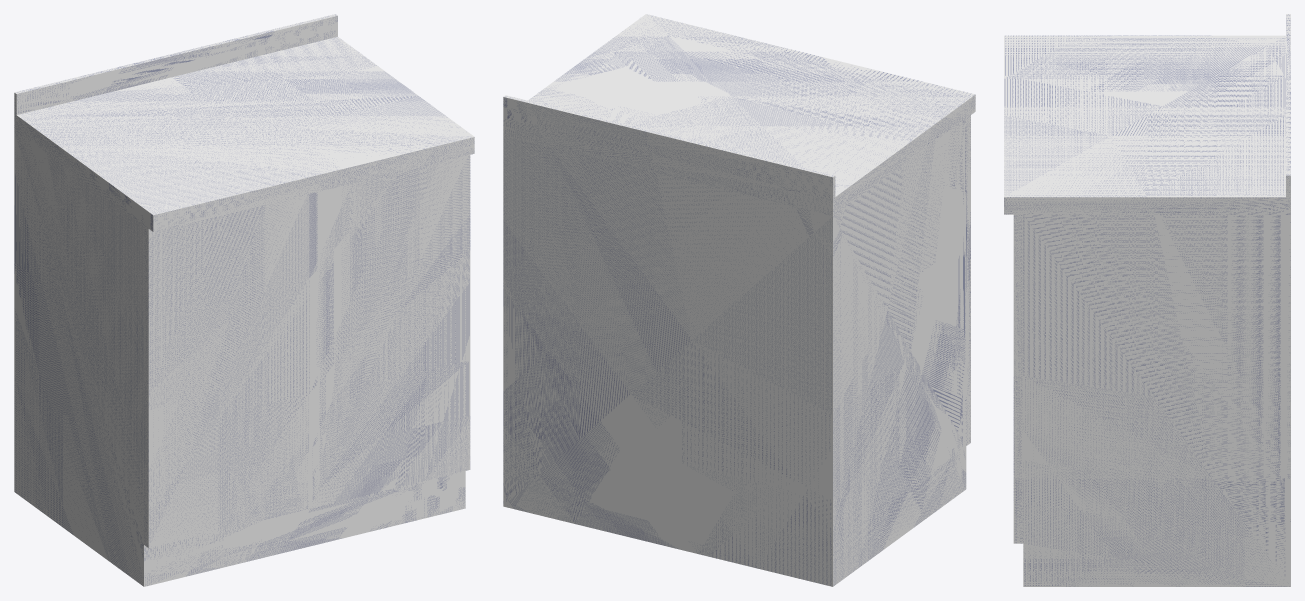
Rendered from counter.fbx.
3 renders of one model, left to right at view 1: azimuth 30°, elevation 25°; view 2: azimuth 150°, elevation 25°; view 3: azimuth 270°, elevation 25°, orthographic. The views are drawn at different scales.
Parts seen in each view (by area): view 1: Group1, counter_basic_80_90_60_door1, Group2; view 2: counter_basic_80_90_60_door1, Group2, Group1; view 3: counter_basic_80_90_60_door1, Group2, Group1.
Boxes of the visible parts, left/top/right/bottom form: Group1: left=144, top=155, right=470, bottom=548; counter_basic_80_90_60_door1: left=14, top=130, right=465, bottom=586; Group2: left=14, top=14, right=474, bottom=231; counter_basic_80_90_60_door1: left=503, top=119, right=966, bottom=586; Group2: left=503, top=14, right=975, bottom=215; Group1: left=966, top=115, right=970, bottom=445; counter_basic_80_90_60_door1: left=1023, top=214, right=1290, bottom=586; Group2: left=1004, top=14, right=1290, bottom=214; Group1: left=1013, top=214, right=1023, bottom=543.
Bounding box in the file's own units: 0.8 × 0.95 × 0.6.
